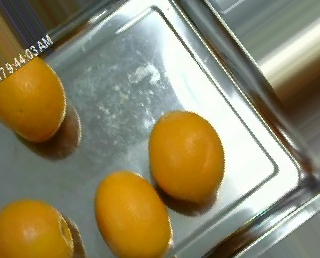Orange: (147, 109, 224, 202), (94, 169, 174, 257), (1, 199, 75, 258)
